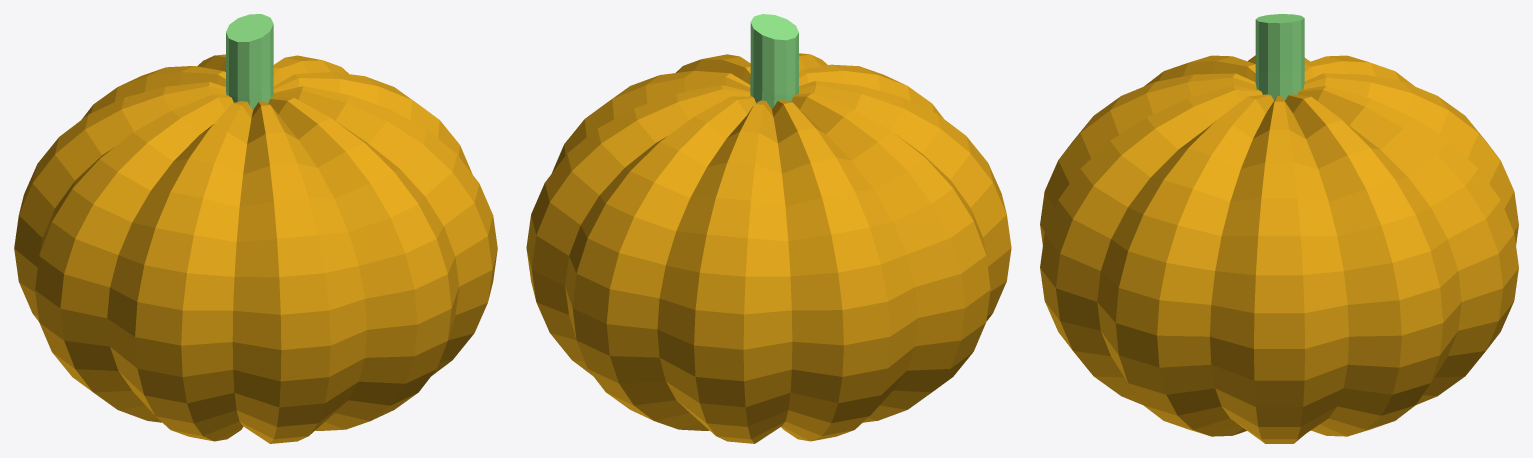
File: Pumpkin.fbx
3 views of the same model, side by side, from view 1: azimuth 30°, elevation 25°; view 2: azimuth 150°, elevation 25°; view 3: azimuth 270°, elevation 25° (orthographic).
Visible parts, largest first — view 1: Sphere, Cylinder; view 2: Sphere, Cylinder; view 3: Sphere, Cylinder.
Boxes of the visible parts, box(x1,y1,x2,y2) form: Sphere: box(14, 54, 497, 443); Cylinder: box(226, 14, 273, 109); Sphere: box(526, 53, 1011, 443); Cylinder: box(750, 14, 798, 108); Sphere: box(1040, 55, 1518, 443); Cylinder: box(1255, 14, 1304, 100).
Size of the model in its own units: 199 by 178 by 196.
